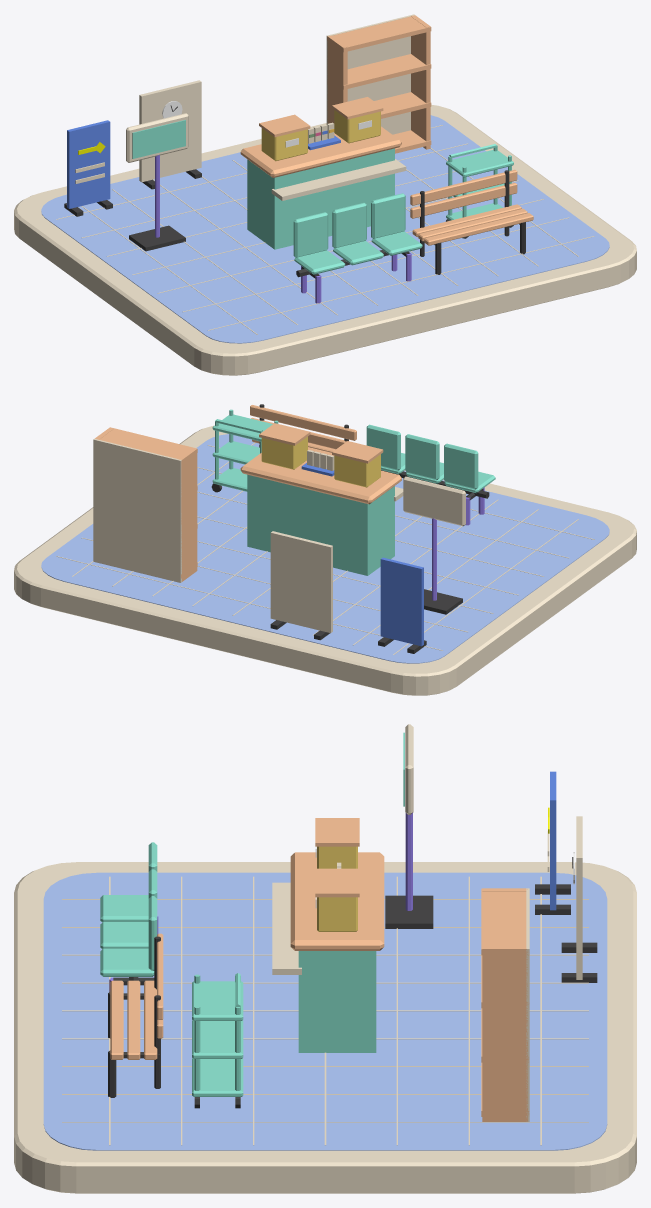
The model's file is room.fbx.
The picture shows the model from 3 angles, top to bottom: view 1: azimuth 30°, elevation 25°; view 2: azimuth 150°, elevation 25°; view 3: azimuth 270°, elevation 25°; orthographic projection. The views are drawn at different scales.
Parts seen in each view (by area): view 1: COM-02 Floor Surface, COM-01 Rounded Base Direct, Counter body, Panel.001, Panel, Back.003, Countertop, Side.001, Visitor shelf, Shelf.003, Shelf.002, Inset (+21 smaller); view 2: COM-02 Floor Surface, COM-01 Rounded Base Direct, Back.003, Counter body, Panel.001, Panel, Countertop, Sign panel, Side, Back, Back.001, Shelf.003 (+11 smaller); view 3: COM-02 Floor Surface, COM-01 Rounded Base Direct, Counter body, Side.001, Countertop, Shelf.003, Visitor shelf, Tray.002, Tray, Tray.001, Foot, Seat.002 (+14 smaller).
Boxes of the visible parts, x1,y1,x2,y2 form: COM-02 Floor Surface: (41, 115, 609, 343); COM-01 Rounded Base Direct: (14, 104, 636, 375); Counter body: (247, 148, 394, 249); Panel.001: (139, 80, 201, 182); Panel: (67, 120, 110, 208); Back.003: (326, 14, 414, 134); Countertop: (240, 126, 401, 177); Side.001: (411, 15, 430, 149); Visitor shelf: (271, 159, 406, 200); Shelf.003: (327, 16, 431, 52); Shelf.002: (329, 54, 431, 89); Inset: (132, 120, 185, 158); COM-02 Floor Surface: (41, 434, 609, 663); COM-01 Rounded Base Direct: (14, 425, 636, 695); Back.003: (93, 438, 181, 582); Counter body: (247, 474, 394, 575); Panel.001: (270, 531, 332, 633); Panel: (380, 557, 423, 646); Countertop: (240, 453, 401, 504); Sign panel: (403, 476, 465, 526); Side: (178, 447, 197, 581); Back: (444, 443, 478, 489); Back.001: (405, 434, 439, 479); Shelf.003: (99, 427, 197, 463); COM-02 Floor Surface: (43, 872, 607, 1150); COM-01 Rounded Base Direct: (14, 862, 636, 1193); Counter body: (298, 951, 376, 1052); Side.001: (482, 946, 527, 1121); Countertop: (290, 852, 384, 950); Shelf.003: (481, 888, 529, 955); Visitor shelf: (272, 882, 301, 974); Tray.002: (192, 981, 243, 1020); Tray: (192, 1058, 243, 1096); Tray.001: (192, 1020, 243, 1058); Foot: (385, 895, 433, 928); Seat.002: (100, 948, 154, 976).
Size of the model in its own units: 600 by 190 by 520.
